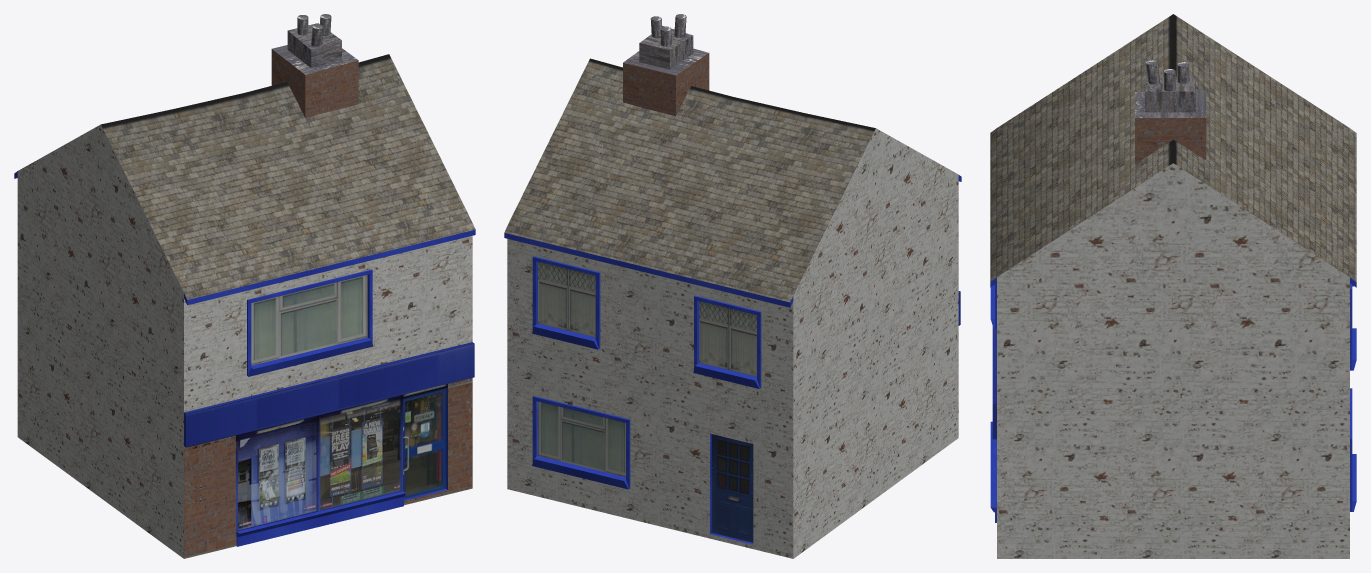
Rendered from ukcommercialbookies3.FBX.
3 renders of one model, left to right at view 1: azimuth 30°, elevation 25°; view 2: azimuth 150°, elevation 25°; view 3: azimuth 270°, elevation 25°, orthographic. The views are drawn at different scales.
Parts seen in each view (by area): view 1: Box001; view 2: Box001; view 3: Box001.
Part boxes in pixels (x1,y1,x2,y2): Box001: [14, 14, 475, 558]; Box001: [504, 14, 961, 558]; Box001: [990, 14, 1356, 558].
Bounding box in the file's own units: 800 × 1135 × 831.
